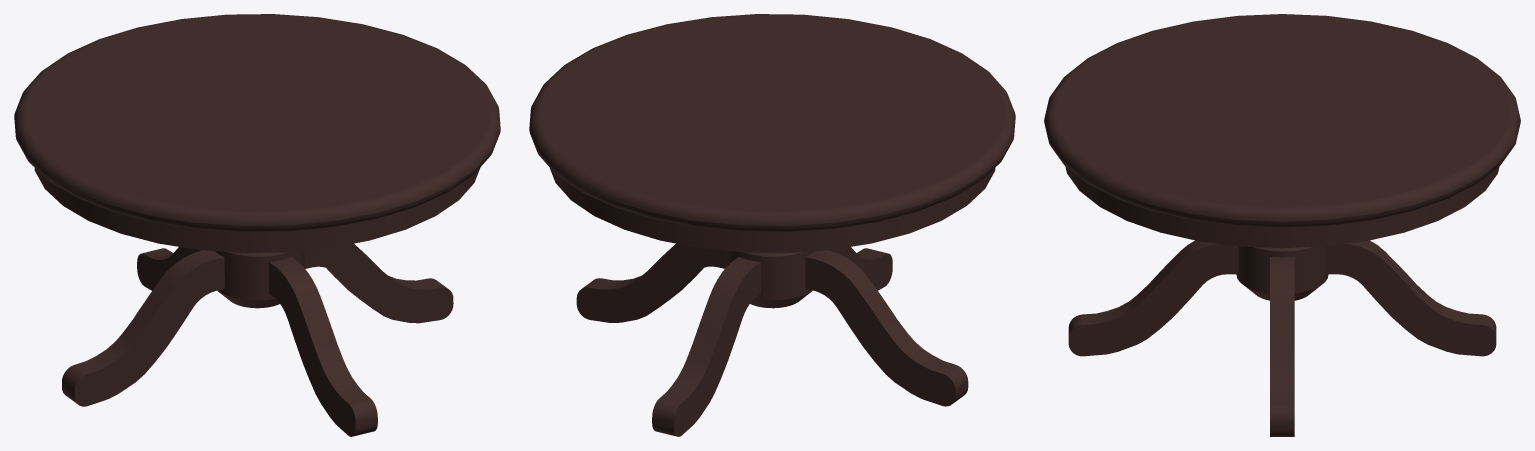
Rendered from TableRonde_26.fbx.
3 renders of one model, left to right at view 1: azimuth 30°, elevation 25°; view 2: azimuth 150°, elevation 25°; view 3: azimuth 270°, elevation 25°, orthographic. The views are drawn at different scales.
Visible parts, largest first — view 1: pCylinder13, pCube17, pCube18, pCube19, pCube16; view 2: pCylinder13, pCube17, pCube16, pCube19, pCube18; view 3: pCylinder13, pCube16, pCube18, pCube19.
Boxes of the visible parts, x1=… form: pCylinder13: x1=14, y1=14, x2=500, y2=308; pCube17: x1=62, y1=250, x2=224, y2=406; pCube18: x1=269, y1=257, x2=377, y2=436; pCube19: x1=304, y1=243, x2=453, y2=323; pCube16: x1=137, y1=247, x2=200, y2=290; pCylinder13: x1=529, y1=14, x2=1015, y2=308; pCube17: x1=805, y1=250, x2=968, y2=406; pCube16: x1=652, y1=257, x2=760, y2=436; pCube19: x1=576, y1=243, x2=725, y2=322; pCube18: x1=829, y1=247, x2=892, y2=290; pCylinder13: x1=1044, y1=14, x2=1520, y2=300; pCube16: x1=1326, y1=240, x2=1496, y2=356; pCube18: x1=1068, y1=240, x2=1238, y2=356; pCube19: x1=1270, y1=257, x2=1294, y2=436.
Bounding box in the file's own units: 50.5 × 28.04 × 50.5.
